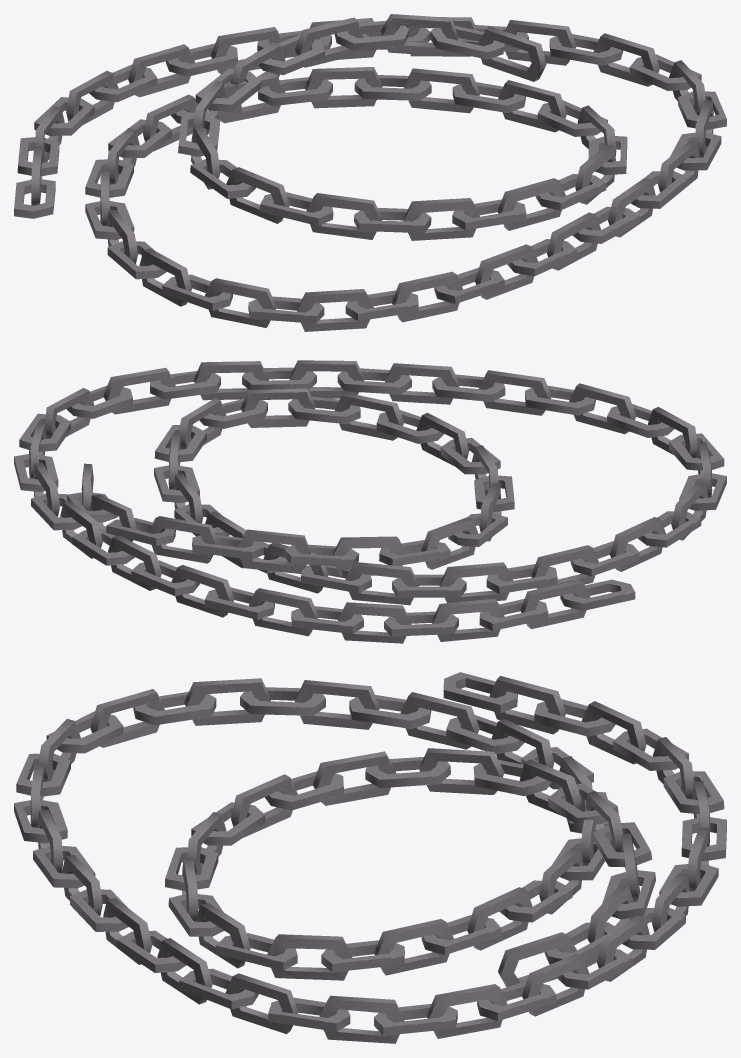
Rendered from prop_chain_coil.glb.
3 renders of one model, top to bottom at view 1: azimuth 30°, elevation 25°; view 2: azimuth 150°, elevation 25°; view 3: azimuth 270°, elevation 25°, orthographic. The views are drawn at different scales.
Visible parts, largest first — view 1: Chain_Coil; view 2: Chain_Coil; view 3: Chain_Coil.
Boxes of the visible parts, x1,y1,x2,y2 form: Chain_Coil: [14, 14, 726, 331]; Chain_Coil: [14, 360, 726, 643]; Chain_Coil: [14, 672, 726, 1043].
Size of the model in its own units: 1.07 by 0.0871 by 0.9078.
1 material, 1 textured.
